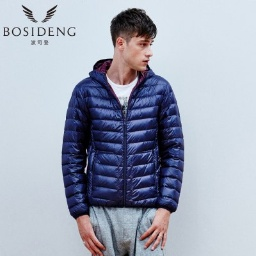face: (109, 7, 157, 71)
